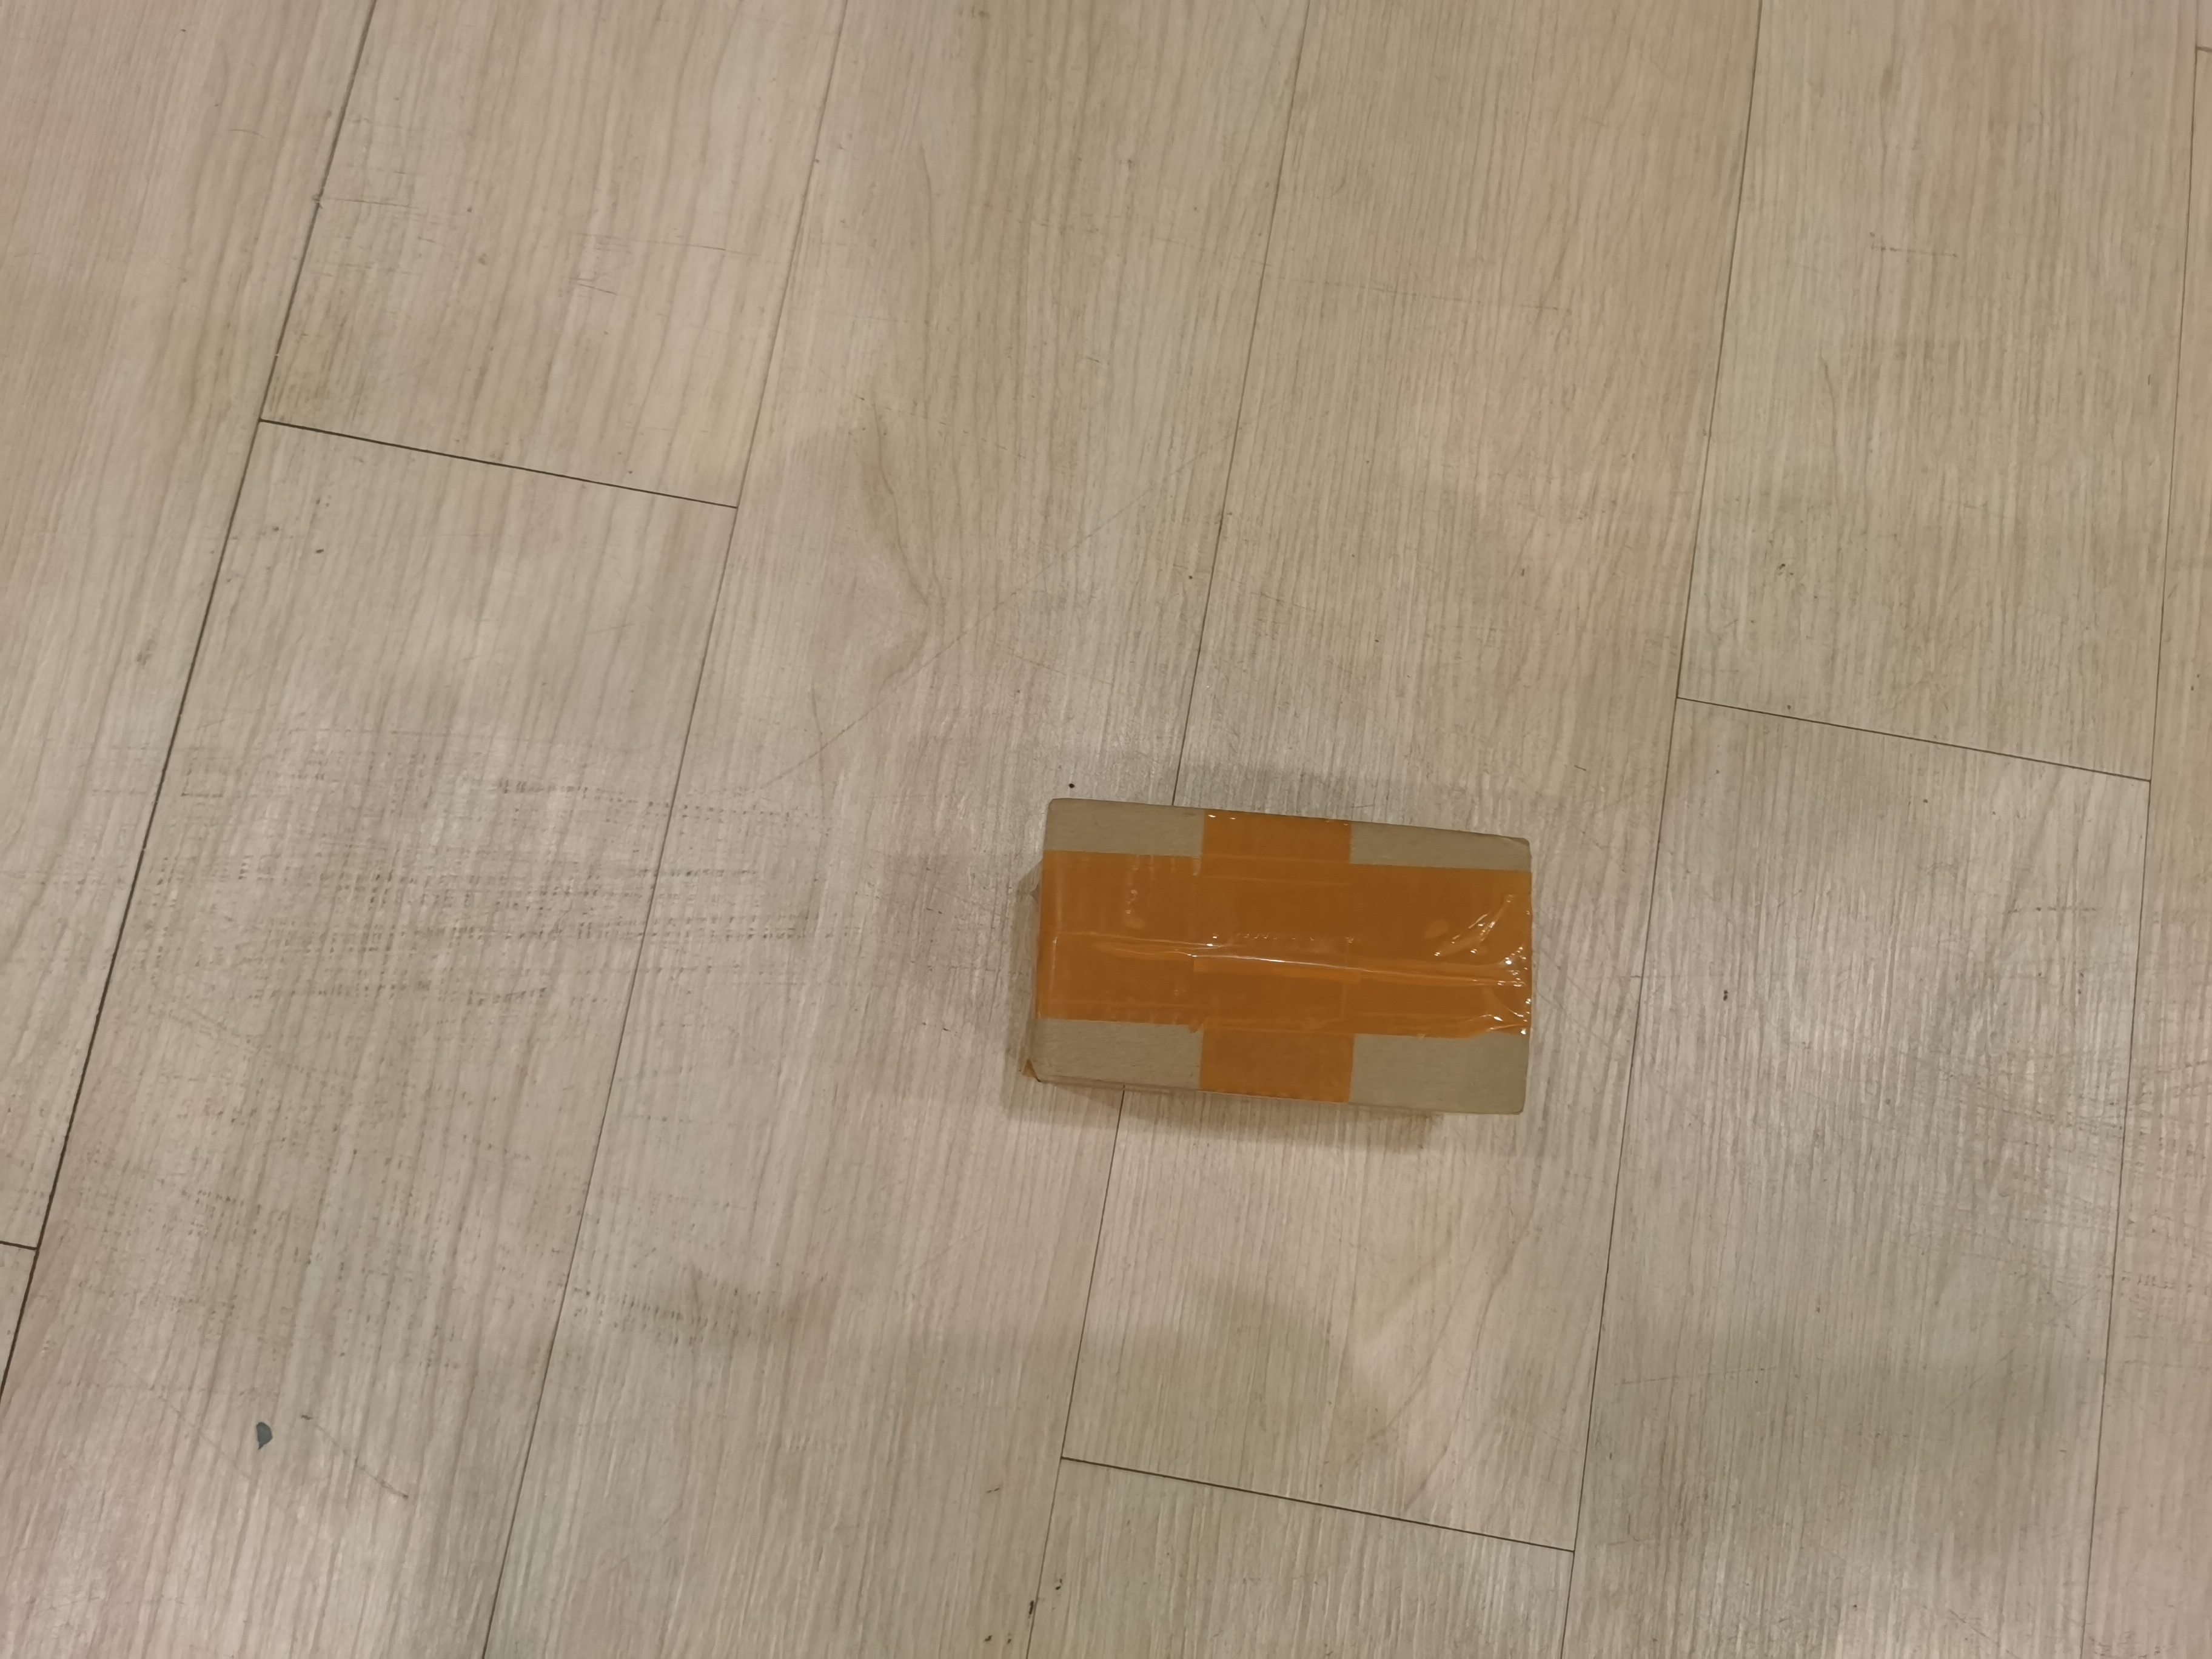box: (1012, 786, 1550, 1141)
